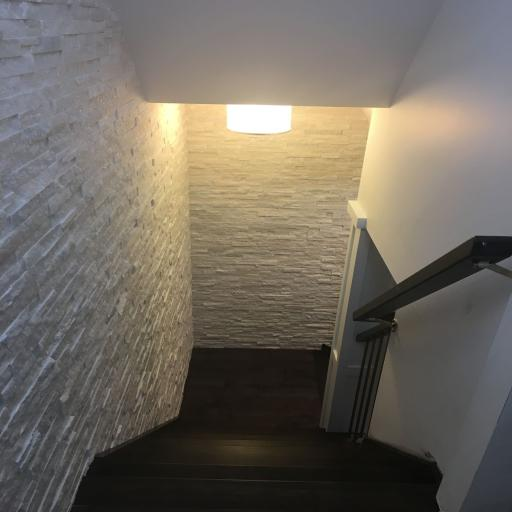laptop: (71, 416, 445, 512)
